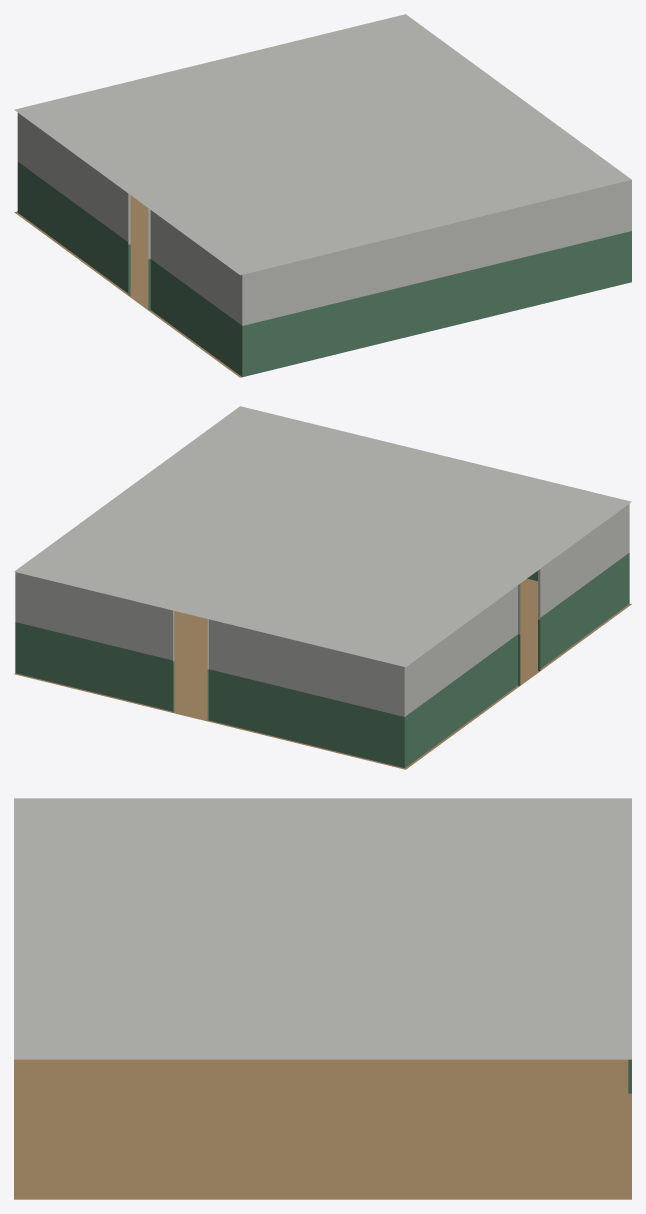
The model's file is chunk_2_3.glb.
3 renders of one model, top to bottom at view 1: azimuth 30°, elevation 25°; view 2: azimuth 150°, elevation 25°; view 3: azimuth 270°, elevation 25°, orthographic. The views are drawn at different scales.
Parts seen in each view (by area): view 1: chunk_2_3; view 2: chunk_2_3; view 3: chunk_2_3.
Part boxes in pixels (left/top/right/bottom): chunk_2_3: left=14, top=14, right=631, bottom=377; chunk_2_3: left=14, top=406, right=631, bottom=769; chunk_2_3: left=14, top=798, right=631, bottom=1199.
Bounding box in the file's own units: 12 × 3 × 12.
